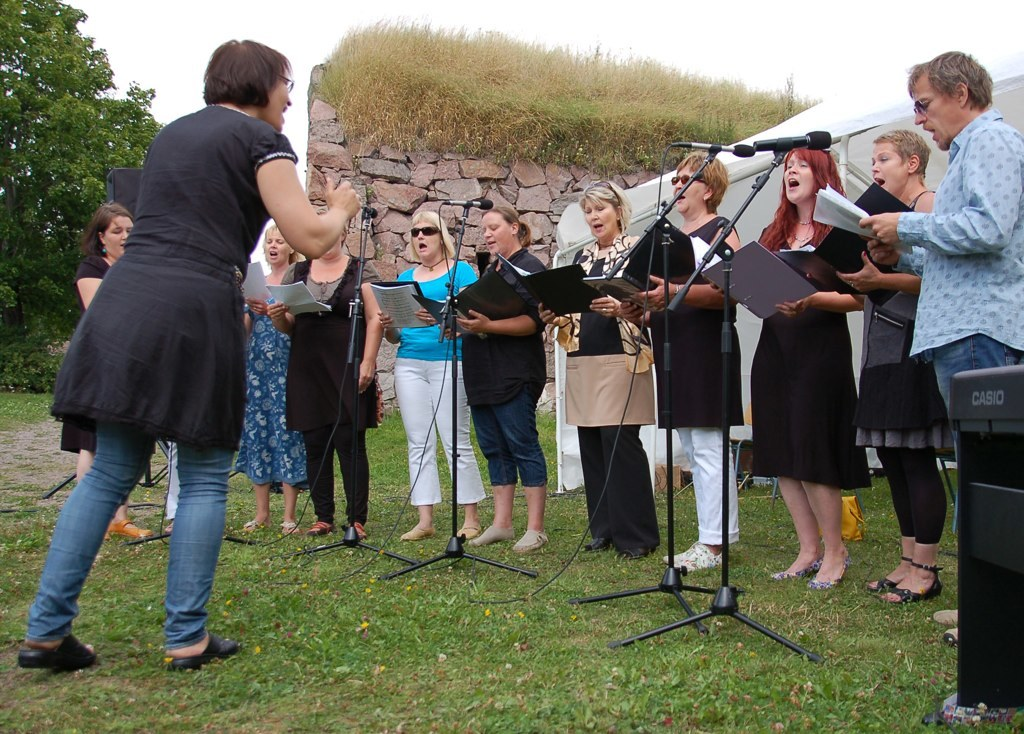Footwear: (11, 607, 75, 683), (165, 629, 239, 670), (888, 563, 943, 602), (868, 556, 915, 590), (810, 552, 851, 588), (770, 560, 826, 580), (678, 549, 727, 569), (468, 525, 509, 547), (513, 525, 549, 549), (111, 519, 153, 539), (667, 543, 699, 565), (400, 524, 436, 539), (935, 608, 960, 625), (581, 537, 607, 553), (307, 519, 335, 533), (615, 549, 647, 560), (456, 527, 482, 540), (280, 520, 302, 535), (943, 628, 959, 644), (244, 520, 263, 532), (355, 523, 368, 540)
